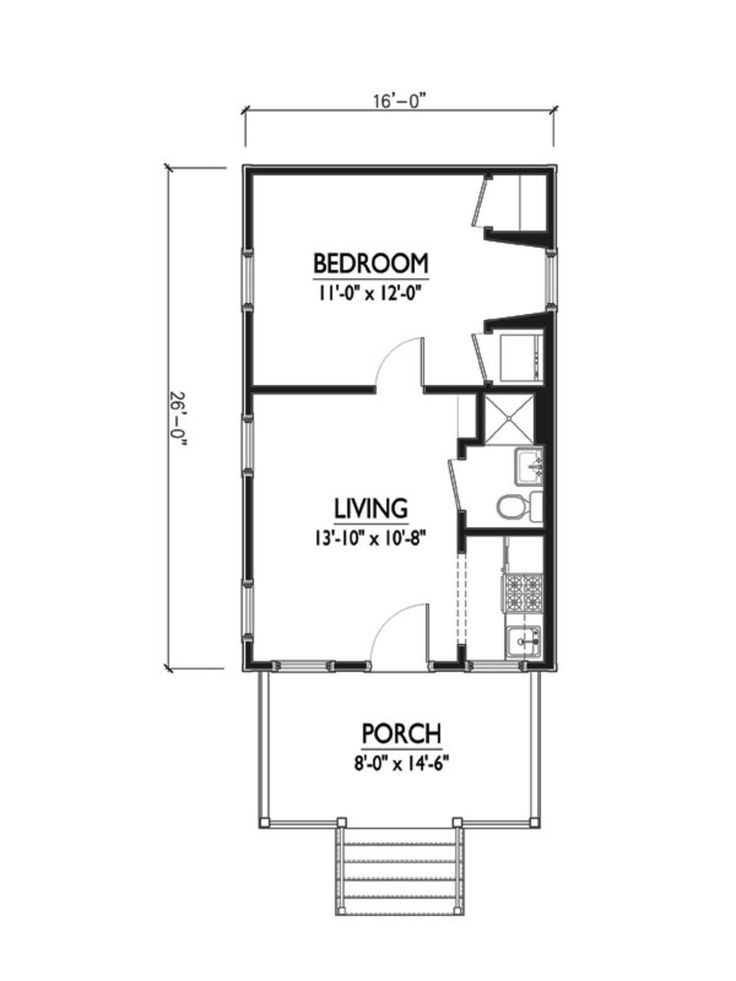door: (359, 573, 435, 673), (367, 313, 438, 395), (433, 449, 477, 514), (464, 161, 501, 238), (464, 318, 496, 385)
room: (246, 382, 553, 680), (242, 166, 556, 398)
wall: (532, 301, 569, 678), (231, 151, 562, 185), (222, 464, 270, 586), (241, 374, 381, 410), (226, 305, 259, 415), (531, 154, 564, 256), (450, 514, 557, 545), (231, 160, 262, 255), (420, 379, 560, 399), (478, 308, 563, 332), (331, 640, 373, 687), (230, 638, 273, 681), (464, 386, 492, 449), (429, 646, 474, 678)
window: (525, 233, 572, 313), (222, 401, 268, 479), (267, 645, 342, 691), (232, 240, 269, 320), (228, 573, 267, 640), (460, 653, 531, 681)
